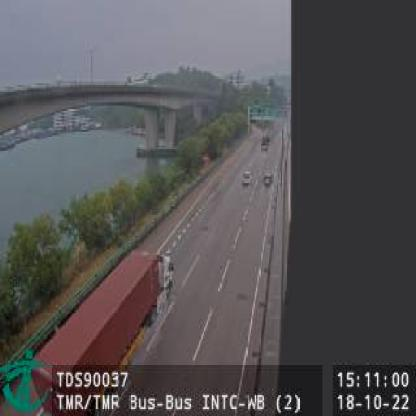Car: (242, 171, 254, 187), (262, 169, 273, 186)
Truck: (26, 249, 176, 402)
